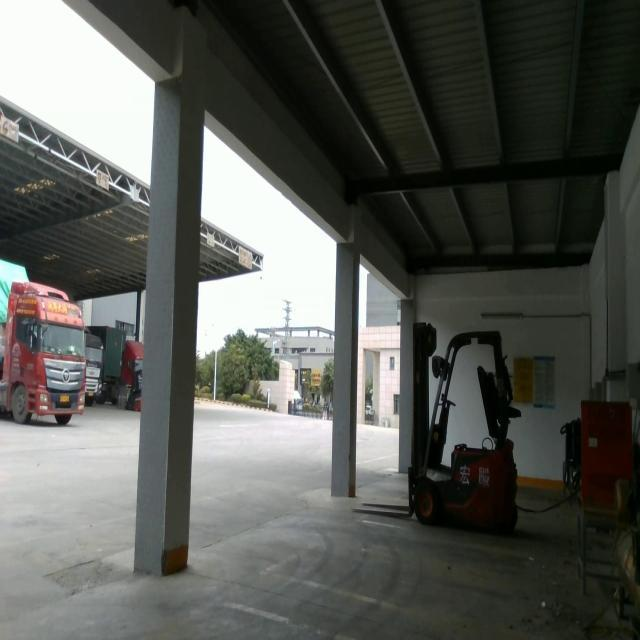forklift: (351, 317, 520, 535)
